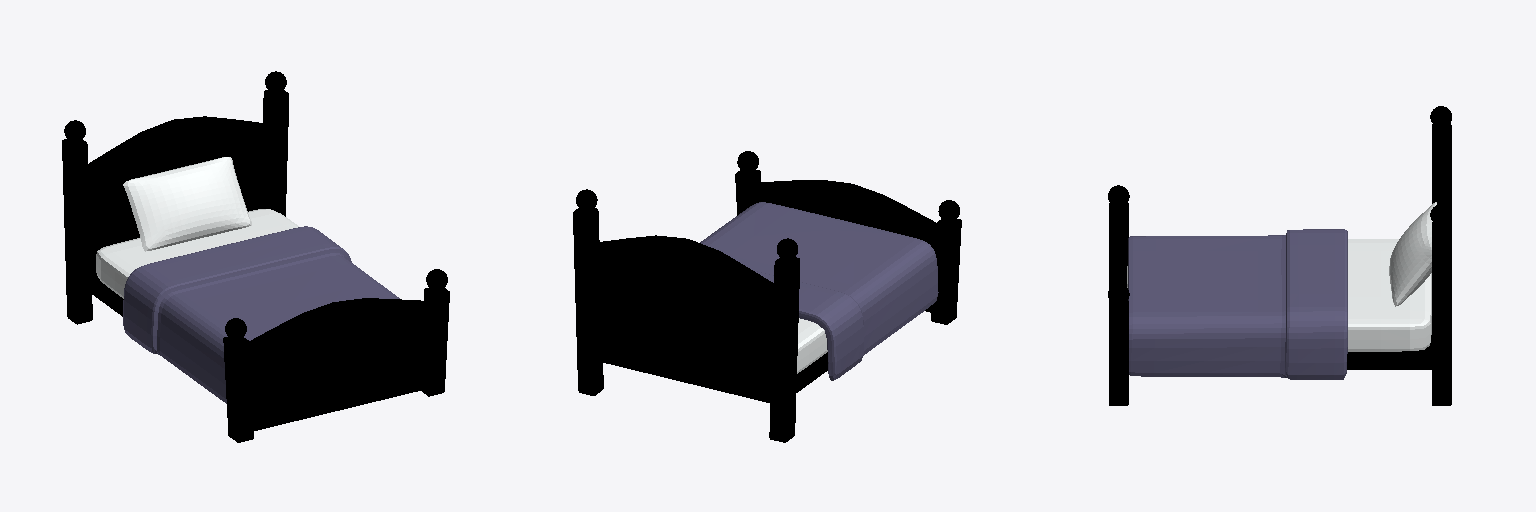
3 views of the same model, side by side, from view 1: azimuth 30°, elevation 25°; view 2: azimuth 150°, elevation 25°; view 3: azimuth 270°, elevation 25° (orthographic).
Visible parts, largest first — view 1: polySurface166; view 2: polySurface166; view 3: polySurface166.
Boxes of the visible parts, box(x1,y1,x2,y2) form: polySurface166: box(62, 71, 449, 442); polySurface166: box(573, 151, 961, 442); polySurface166: box(1108, 106, 1451, 405).
Size of the model in its own units: 0.7993 by 0.6938 by 1.08.
Materials: 3 (2 with a texture image).